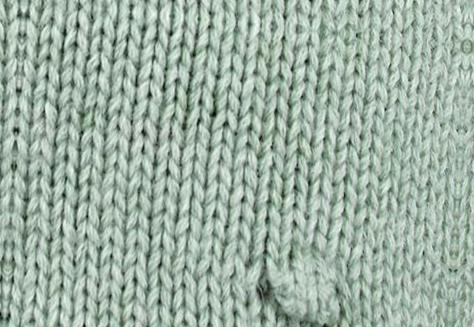knot: (261, 255, 354, 324)
